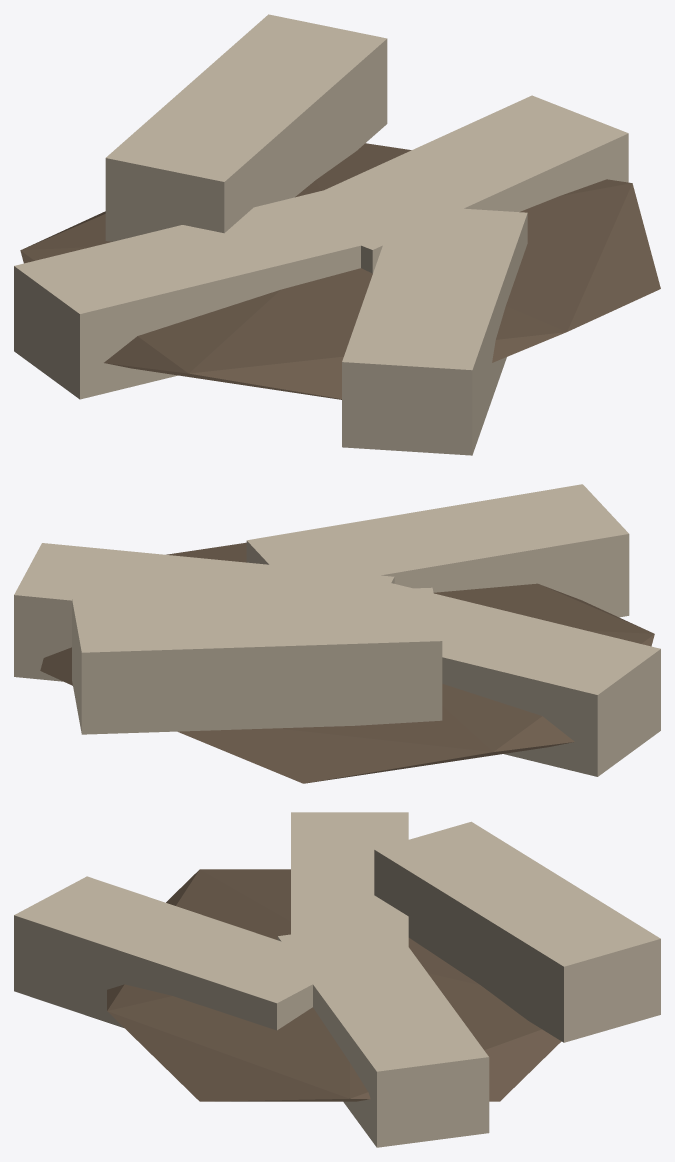
The model's file is Prop_CorpseBundle.fbx.
3 renders of one model, top to bottom at view 1: azimuth 30°, elevation 25°; view 2: azimuth 150°, elevation 25°; view 3: azimuth 270°, elevation 25°, orthographic. The views are drawn at different scales.
Visible parts, largest first — view 1: Prop_CorpseBundle; view 2: Prop_CorpseBundle; view 3: Prop_CorpseBundle.
Boxes of the visible parts, x1=… form: Prop_CorpseBundle: x1=14, y1=14, x2=660, y2=455; Prop_CorpseBundle: x1=14, y1=484, x2=660, y2=783; Prop_CorpseBundle: x1=14, y1=812, x2=660, y2=1147.
Bounding box in the file's own units: 0.3659 × 0.08 × 0.3854.
